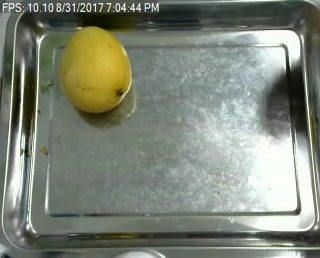Mango: (58, 26, 131, 112)
